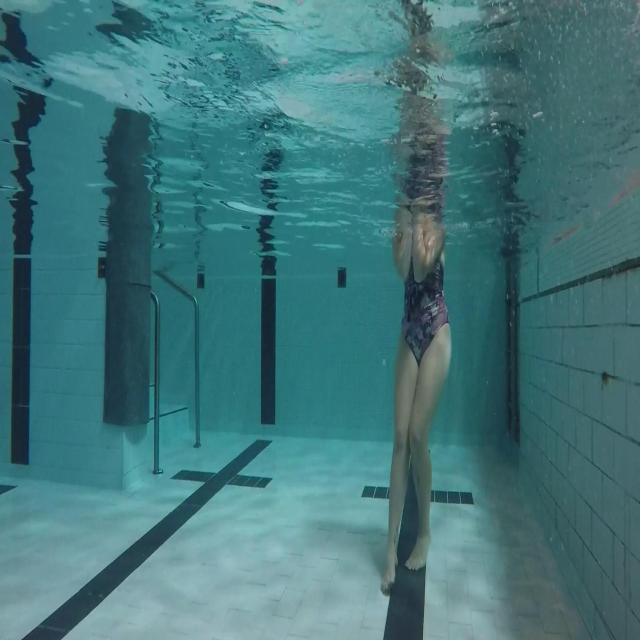human: (377, 2, 453, 596)
